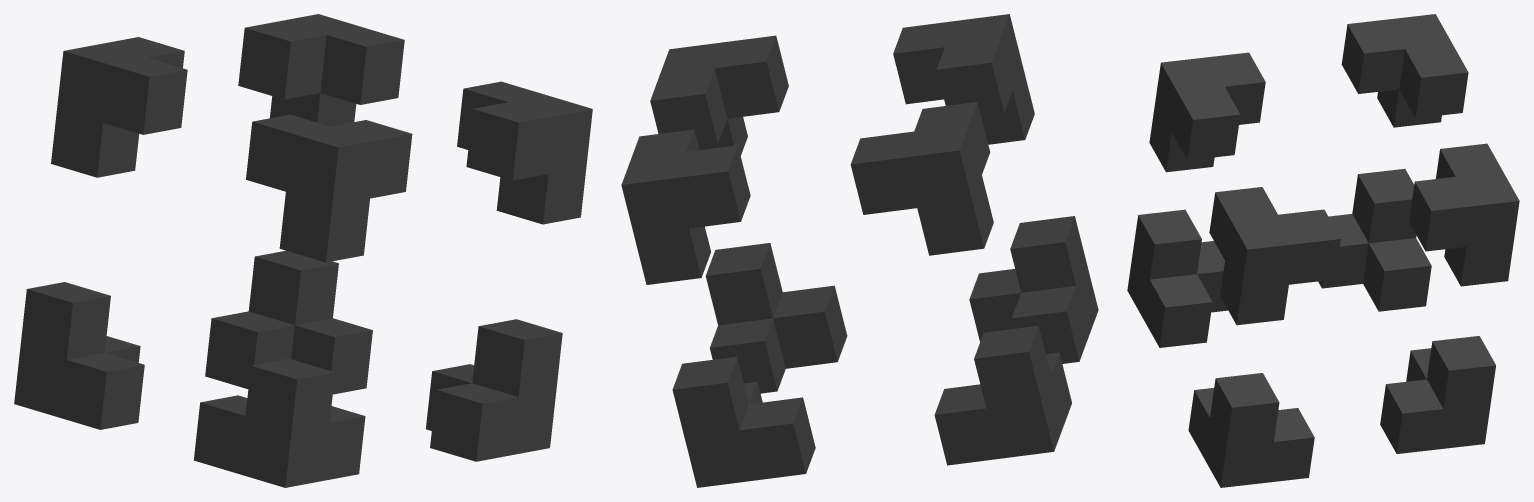
Rendered from bossframe.obj.
3 views of the same model, side by side, from view 1: azimuth 30°, elevation 25°; view 2: azimuth 150°, elevation 25°; view 3: azimuth 270°, elevation 25° (orthographic). The views are drawn at different scales.
Visible parts, largest first — view 1: Cube.003; view 2: Cube.003; view 3: Cube.003.
Part boxes in pixels (x1,y1,x2,y2): Cube.003: [14, 14, 592, 487]; Cube.003: [621, 14, 1098, 487]; Cube.003: [1127, 14, 1519, 487].
Bounding box in the file's own units: 5.82 × 4.52 × 4.8.
1 material, 1 textured.
